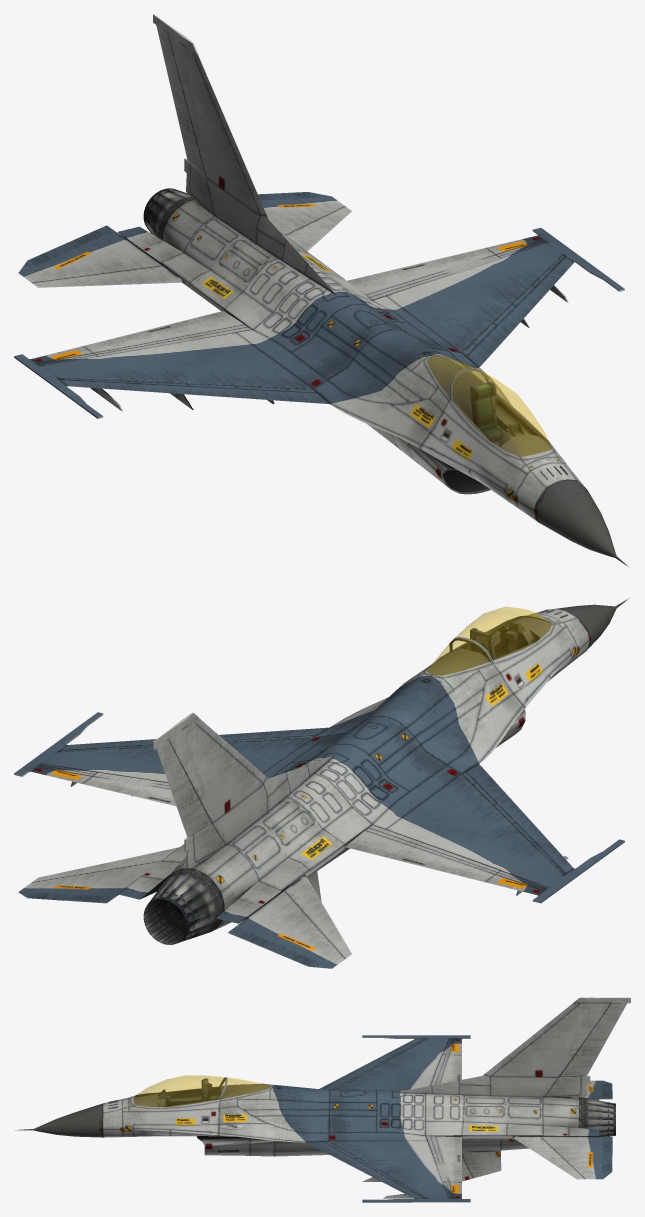
3 views of the same model, one above another, from view 1: azimuth 30°, elevation 25°; view 2: azimuth 150°, elevation 25°; view 3: azimuth 270°, elevation 25° (orthographic). The views are drawn at different scales.
Parts seen in each view (by area): view 1: F 16, Glass; view 2: F 16, Glass; view 3: F 16, Glass.
Part boxes in pixels (x1,y1,x2,y2): F 16: (14,14,629,567); Glass: (427,356,551,456); F 16: (14,598,629,968); Glass: (427,607,551,674); F 16: (15,997,630,1202); Glass: (134,1075,269,1106).
Bounding box in the file's own units: 578 × 279 × 906.
2 materials, 1 textured.
